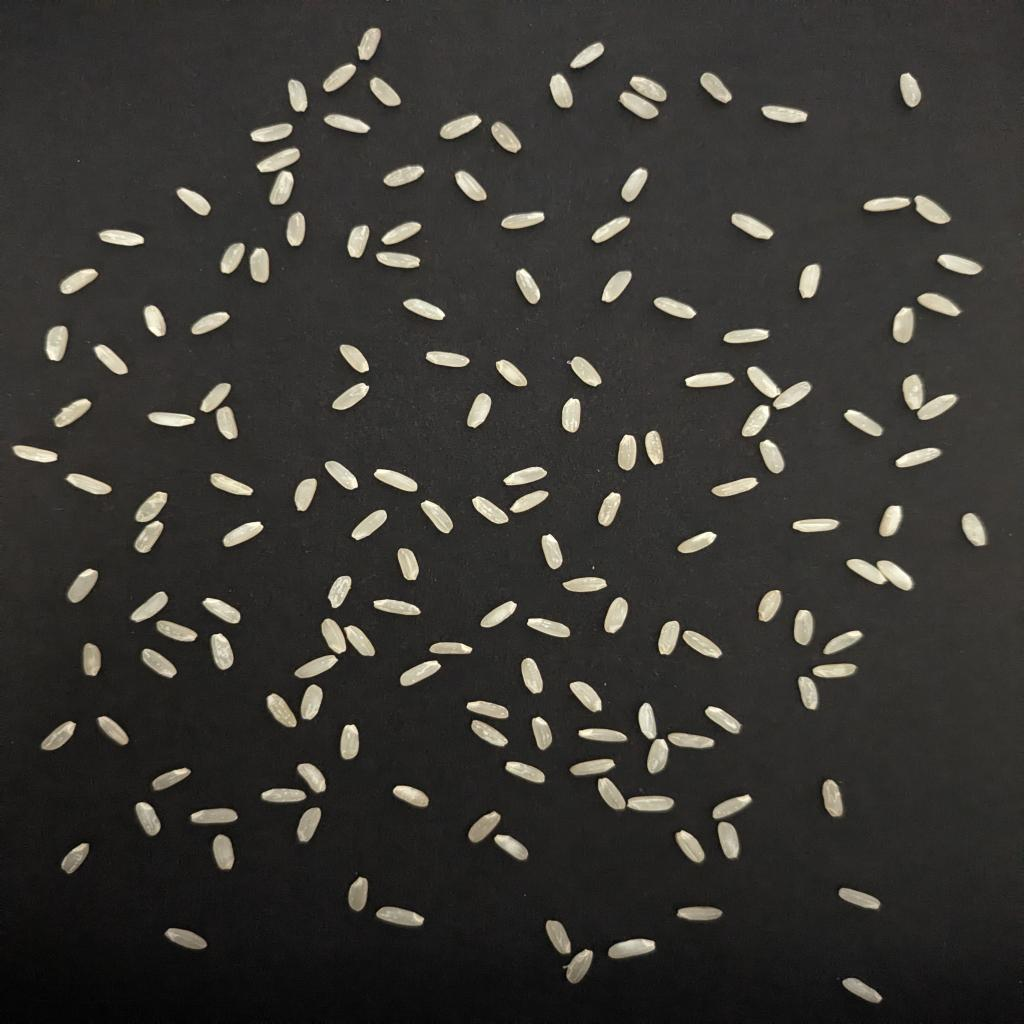good-rice: (730, 214, 775, 240), (53, 398, 91, 428), (876, 560, 914, 590), (618, 92, 658, 120), (591, 216, 631, 244), (772, 382, 812, 410), (682, 630, 722, 658), (439, 114, 482, 140), (916, 394, 959, 420), (131, 592, 168, 622), (141, 648, 178, 678), (916, 292, 962, 316), (400, 660, 442, 686), (421, 500, 453, 534), (67, 568, 99, 602), (266, 694, 298, 728), (674, 830, 706, 864), (653, 296, 698, 320), (256, 148, 301, 172), (293, 654, 338, 678), (471, 496, 509, 524), (607, 938, 655, 960), (93, 344, 128, 374), (325, 460, 360, 490), (629, 76, 669, 102), (844, 410, 884, 436), (59, 268, 99, 294), (224, 522, 264, 548), (847, 558, 887, 584), (711, 794, 751, 820), (842, 978, 882, 1004), (914, 196, 951, 224), (333, 382, 370, 410), (706, 706, 743, 734), (40, 722, 77, 750), (493, 834, 530, 862), (455, 170, 487, 202), (748, 366, 780, 398), (352, 510, 386, 540), (701, 72, 732, 104), (938, 254, 983, 276), (202, 598, 240, 624), (479, 602, 517, 628), (471, 720, 509, 746), (602, 270, 631, 304), (133, 520, 162, 554), (565, 950, 594, 984), (322, 64, 357, 92), (514, 268, 541, 304), (490, 122, 522, 152), (895, 448, 943, 468), (570, 356, 602, 386), (338, 344, 370, 374), (711, 478, 759, 498), (200, 382, 232, 412), (136, 492, 168, 522), (509, 490, 549, 514), (823, 630, 863, 654), (570, 682, 602, 712), (344, 626, 376, 656), (96, 716, 128, 746), (61, 842, 91, 874), (469, 812, 501, 842), (376, 906, 424, 926), (176, 188, 210, 216), (402, 298, 445, 320), (210, 474, 253, 496), (154, 620, 197, 642), (839, 888, 882, 910), (165, 928, 208, 950), (602, 270, 631, 302), (597, 778, 626, 810), (376, 470, 418, 492), (759, 440, 786, 474), (466, 394, 493, 428), (546, 920, 573, 954), (570, 42, 605, 68), (325, 114, 370, 134), (740, 406, 770, 436), (67, 474, 112, 494), (370, 78, 402, 106), (296, 764, 328, 792), (621, 168, 647, 202), (296, 808, 322, 842), (384, 164, 424, 186), (381, 222, 421, 244), (677, 532, 717, 554), (506, 762, 546, 784), (717, 822, 740, 860), (269, 170, 293, 206), (45, 326, 69, 362), (605, 598, 629, 634), (210, 634, 234, 670), (322, 618, 346, 654), (503, 466, 546, 486), (527, 618, 570, 638), (466, 700, 509, 720), (495, 360, 527, 386), (962, 514, 988, 546), (549, 74, 573, 108), (293, 478, 317, 512), (136, 802, 160, 836), (192, 312, 229, 334), (152, 768, 189, 790), (392, 786, 429, 808), (762, 106, 807, 124), (501, 212, 546, 230), (570, 758, 615, 776), (685, 372, 735, 388), (823, 780, 844, 818), (892, 308, 914, 344), (647, 738, 669, 774), (250, 124, 293, 142), (426, 350, 469, 368), (357, 28, 381, 60), (863, 196, 911, 212), (346, 226, 370, 258), (221, 242, 245, 274), (328, 576, 352, 608), (759, 590, 783, 622), (373, 600, 421, 616), (626, 796, 674, 812), (189, 808, 237, 824), (903, 374, 924, 410), (541, 534, 562, 570), (658, 620, 679, 656), (794, 610, 815, 646), (522, 658, 543, 694), (301, 684, 322, 720), (213, 834, 234, 870), (900, 74, 922, 108), (599, 492, 621, 526), (724, 328, 770, 344), (13, 446, 59, 462), (812, 662, 858, 678), (639, 702, 658, 740), (376, 252, 421, 268), (99, 230, 144, 246), (879, 506, 903, 536), (562, 576, 607, 592), (669, 732, 714, 748), (261, 788, 306, 804), (677, 906, 722, 922), (799, 264, 820, 298), (285, 212, 306, 246), (216, 406, 237, 440), (578, 728, 629, 742), (618, 434, 637, 470), (250, 248, 269, 284), (341, 724, 360, 760), (288, 80, 309, 112), (397, 548, 418, 580), (645, 430, 663, 466), (562, 398, 581, 432), (799, 676, 818, 710), (349, 878, 368, 912), (144, 306, 165, 336), (149, 412, 194, 426), (794, 518, 839, 532), (533, 716, 551, 750), (83, 644, 101, 676), (429, 642, 471, 654)
